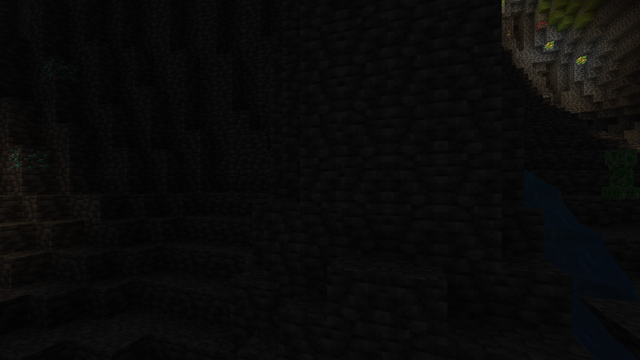creepers: (602, 146, 635, 198)
